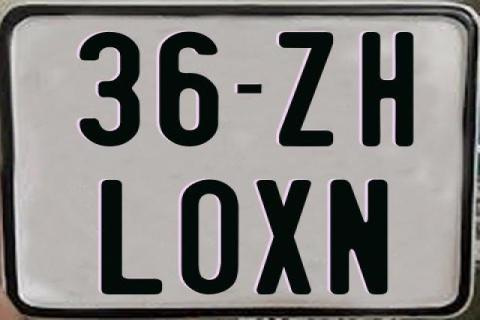0: (80, 31, 146, 149), (158, 30, 224, 148), (179, 180, 243, 296)
H: (362, 30, 416, 146)
L: (98, 178, 162, 296)
N: (329, 178, 391, 294)
X: (255, 180, 312, 297)
Z: (276, 32, 332, 150)
